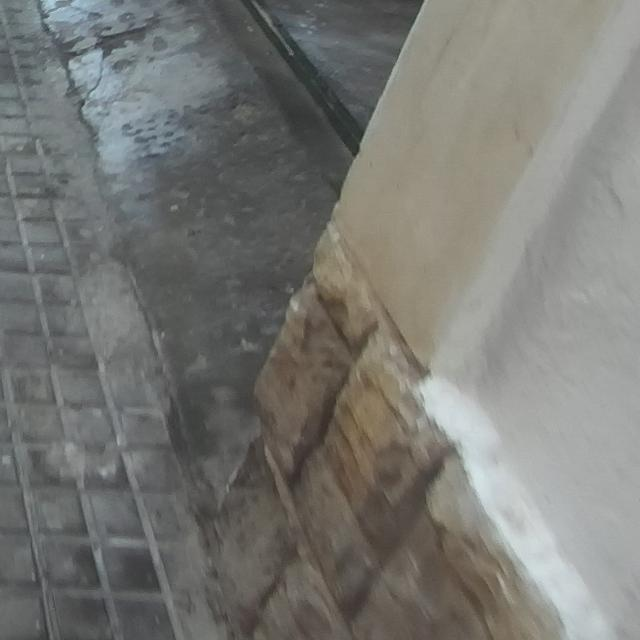calcada_quebrada: (75, 58, 112, 120)
